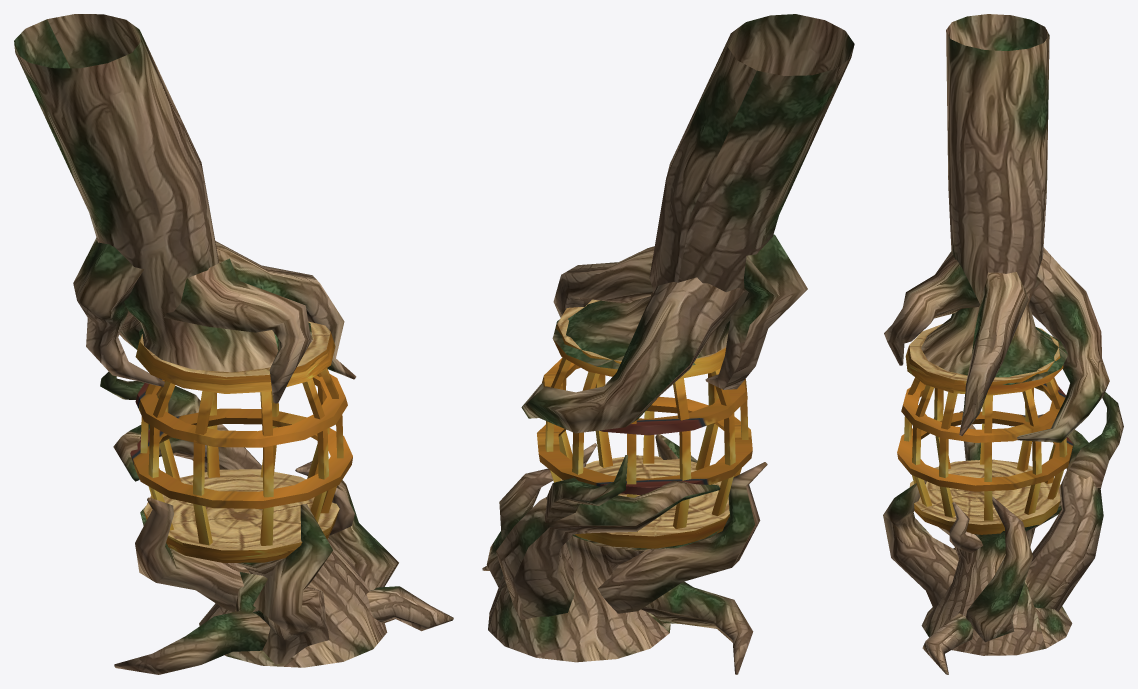
Rendered from SM_Stage012_LZ.FBX.
3 renders of one model, left to right at view 1: azimuth 30°, elevation 25°; view 2: azimuth 150°, elevation 25°; view 3: azimuth 270°, elevation 25°, orthographic. The views are drawn at different scales.
Visible parts, largest first — view 1: Cylinder03; view 2: Cylinder03; view 3: Cylinder03.
Part boxes in pixels (x1,y1,x2,y2): Cylinder03: (14, 14, 453, 674); Cylinder03: (482, 14, 854, 674); Cylinder03: (883, 14, 1123, 674).
Bounding box in the file's own units: 559 × 868 × 367.
